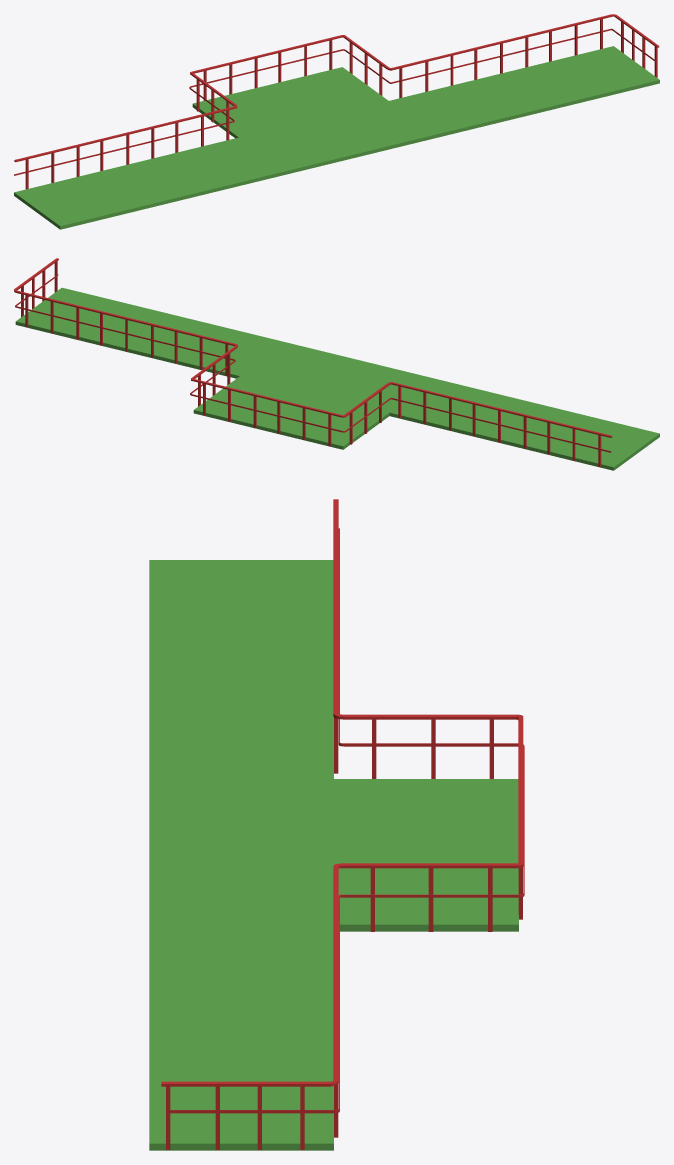
The model's file is BridgeTurbine_Extended.fbx.
3 views of the same model, one above another, from view 1: azimuth 30°, elevation 25°; view 2: azimuth 150°, elevation 25°; view 3: azimuth 270°, elevation 25° (orthographic). The views are drawn at different scales.
Visible parts, largest first — view 1: BridgeTurbine_Extended_LOD0; view 2: BridgeTurbine_Extended_LOD0; view 3: BridgeTurbine_Extended_LOD0.
Part boxes in pixels (x1,y1,x2,y2): BridgeTurbine_Extended_LOD0: (14,14,659,229); BridgeTurbine_Extended_LOD0: (14,258,659,470); BridgeTurbine_Extended_LOD0: (149,499,524,1150).
Size of what is drawn, in the model's own units: 2241 by 124 by 606.
